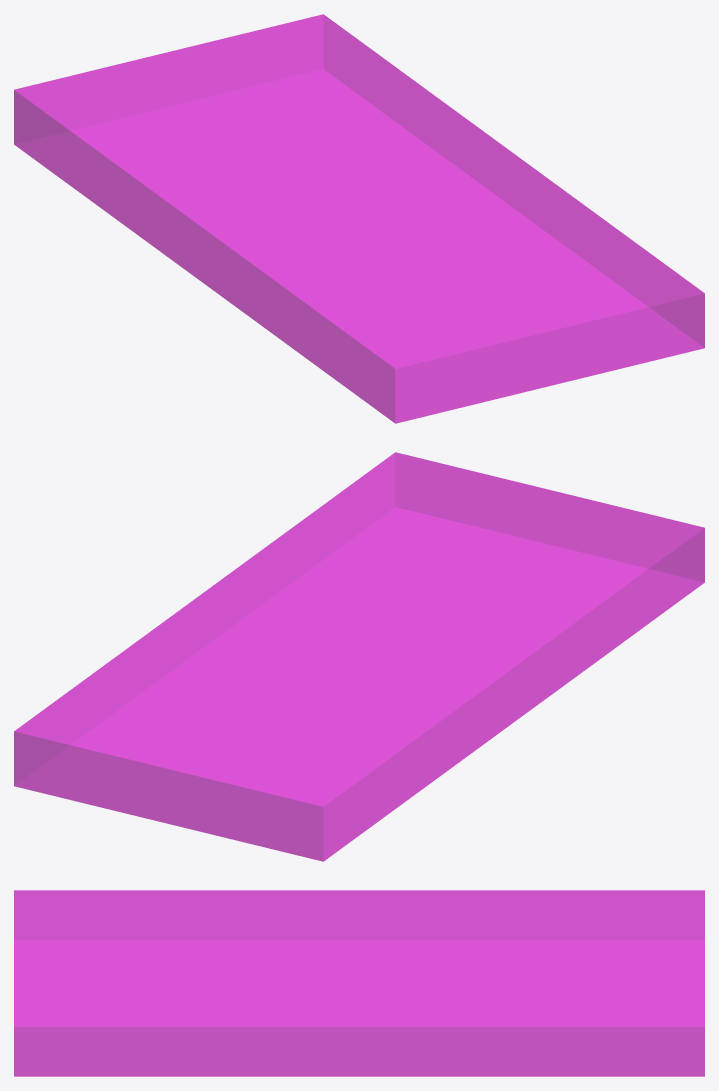
The model's file is SM_Veh_Ship_L_Mast_Front_02_Platform_01_Collision.fbx.
3 renders of one model, top to bottom at view 1: azimuth 30°, elevation 25°; view 2: azimuth 150°, elevation 25°; view 3: azimuth 270°, elevation 25°, orthographic. The views are drawn at different scales.
Visible parts, largest first — view 1: SM_Veh_Ship_L_Mast_Front_02_Platform_01_Collision; view 2: SM_Veh_Ship_L_Mast_Front_02_Platform_01_Collision; view 3: SM_Veh_Ship_L_Mast_Front_02_Platform_01_Collision.
Part boxes in pixels (box(x1,y1,x2,y2)): SM_Veh_Ship_L_Mast_Front_02_Platform_01_Collision: box(14, 14, 704, 423); SM_Veh_Ship_L_Mast_Front_02_Platform_01_Collision: box(14, 452, 704, 861); SM_Veh_Ship_L_Mast_Front_02_Platform_01_Collision: box(14, 890, 704, 1076).
Bounding box in the file's own units: 202 × 34.21 × 432.
